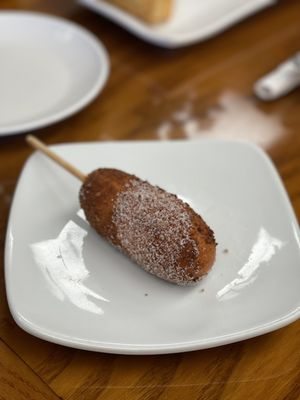curry: (0, 1, 300, 397)
sushi: (78, 167, 217, 286)
